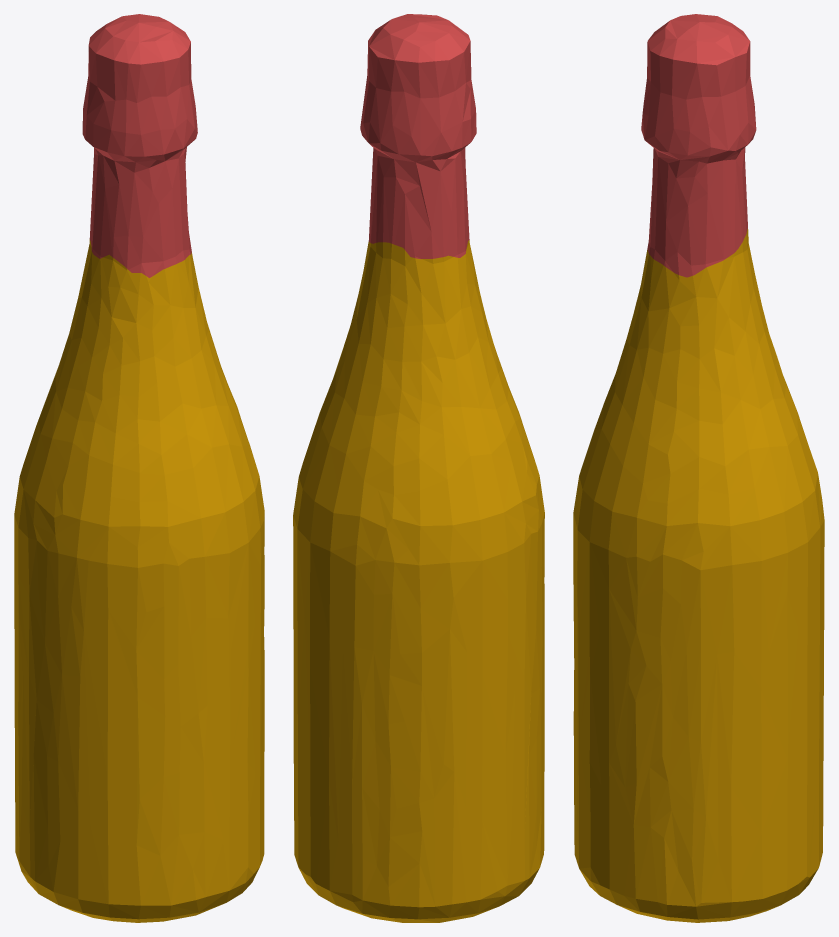
The model's file is fractured_55_2pcs.glb.
3 renders of one model, left to right at view 1: azimuth 30°, elevation 25°; view 2: azimuth 150°, elevation 25°; view 3: azimuth 270°, elevation 25°, orthographic.
Parts seen in each view (by area): view 1: piece_0.obj, piece_1.obj; view 2: piece_0.obj, piece_1.obj; view 3: piece_0.obj, piece_1.obj.
Part boxes in pixels (x1,y1,x2,y2): piece_0.obj: (14, 239, 264, 922); piece_1.obj: (82, 14, 197, 277); piece_0.obj: (293, 240, 544, 922); piece_1.obj: (360, 14, 476, 259); piece_0.obj: (573, 229, 824, 922); piece_1.obj: (641, 14, 756, 277).
Bounding box in the file's own units: 0.2633 × 1 × 0.2631.
